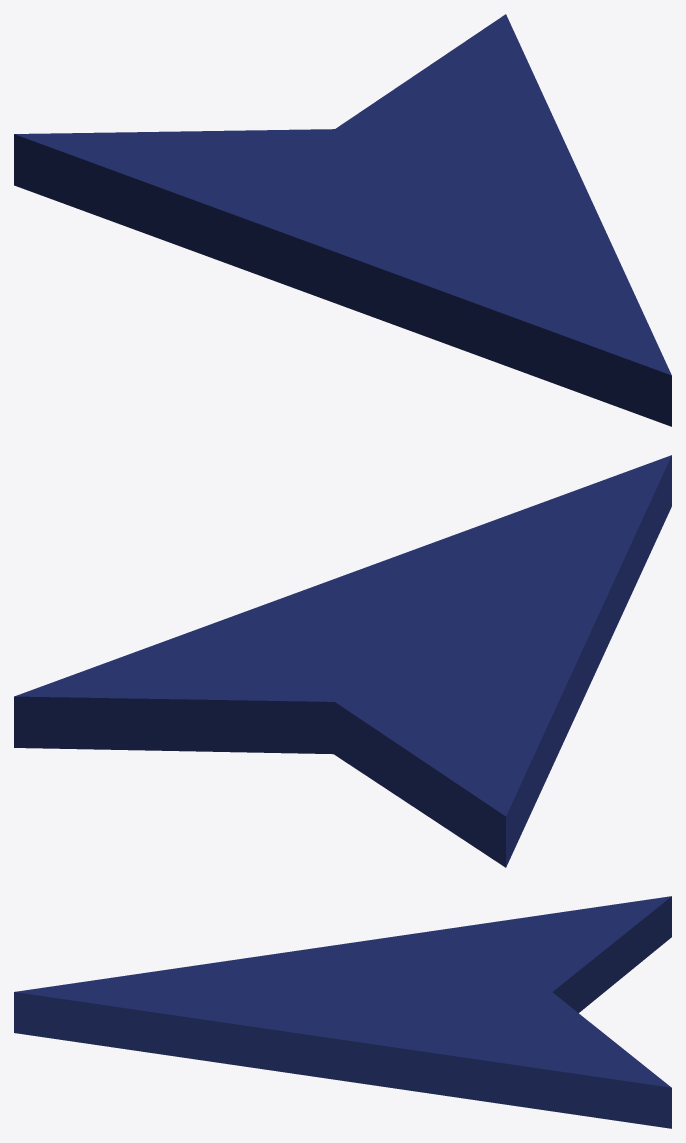
Rendered from directional-generic-marker-2.fbx.
3 views of the same model, one above another, from view 1: azimuth 30°, elevation 25°; view 2: azimuth 150°, elevation 25°; view 3: azimuth 270°, elevation 25° (orthographic). The views are drawn at different scales.
Visible parts, largest first — view 1: Box; view 2: Box; view 3: Box.
Boxes of the visible parts, left/top/right/bottom form: Box: left=14, top=14, right=671, bottom=426; Box: left=14, top=455, right=671, bottom=867; Box: left=14, top=896, right=671, bottom=1128.
Size of the model in its own units: 1.05 by 0.1048 by 1.52.
